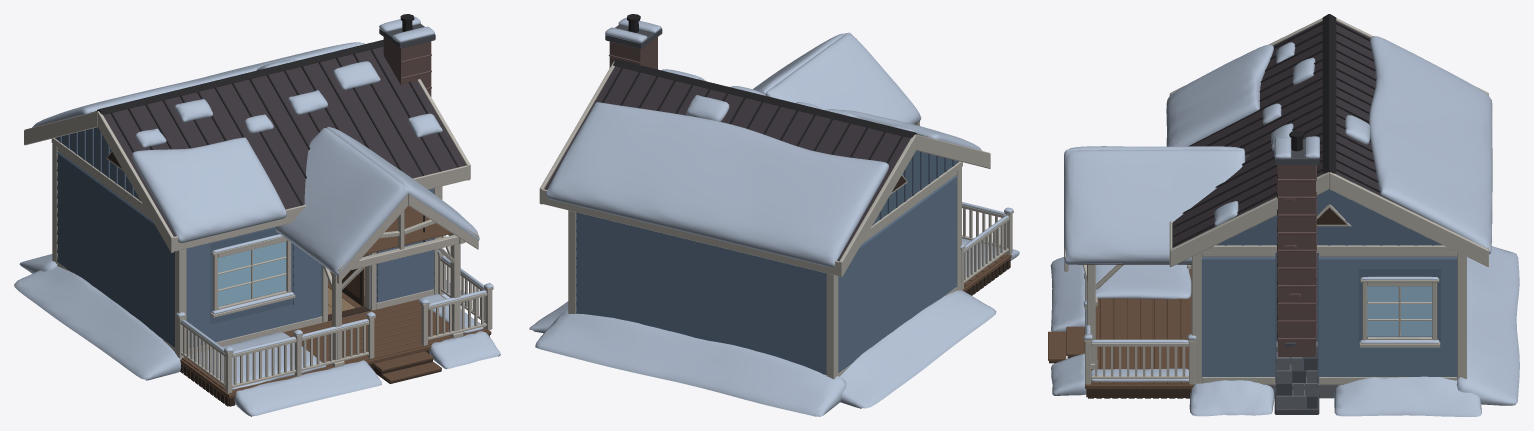
The model's file is cabin.glb.
The picture shows the model from 3 angles, left to right: view 1: azimuth 30°, elevation 25°; view 2: azimuth 150°, elevation 25°; view 3: azimuth 270°, elevation 25°; orthographic projection. The views are drawn at different scales.
Visible parts, largest first — view 1: Roof, Porch, WallFront, WallRight, Floor, WindowsFront, Chimney; view 2: Roof, WallBack, Floor, WallRight, Porch, Chimney; view 3: Roof, WallLeft, Porch, Floor, Chimney, WindowsLeft.
Boxes of the visible parts, x1,y1,x2,y2 form: Roof: [24, 39, 479, 367]; Porch: [176, 248, 500, 416]; WallFront: [179, 186, 441, 353]; WallRight: [52, 144, 180, 355]; Floor: [14, 254, 472, 380]; WindowsFront: [218, 241, 286, 306]; Chimney: [379, 14, 435, 96]; Roof: [539, 32, 990, 277]; WallBack: [568, 210, 834, 379]; Floor: [529, 290, 996, 416]; WallRight: [833, 167, 961, 378]; Porch: [960, 202, 1019, 295]; Chimney: [605, 14, 662, 69]; Roof: [1064, 14, 1492, 368]; WallLeft: [1192, 252, 1466, 384]; Porch: [1048, 257, 1196, 398]; Floor: [1189, 246, 1519, 416]; Chimney: [1274, 130, 1319, 414]; WindowsLeft: [1367, 286, 1432, 336].
Size of what is drawn, in the model's own units: 7.73 by 5.58 by 8.72.
